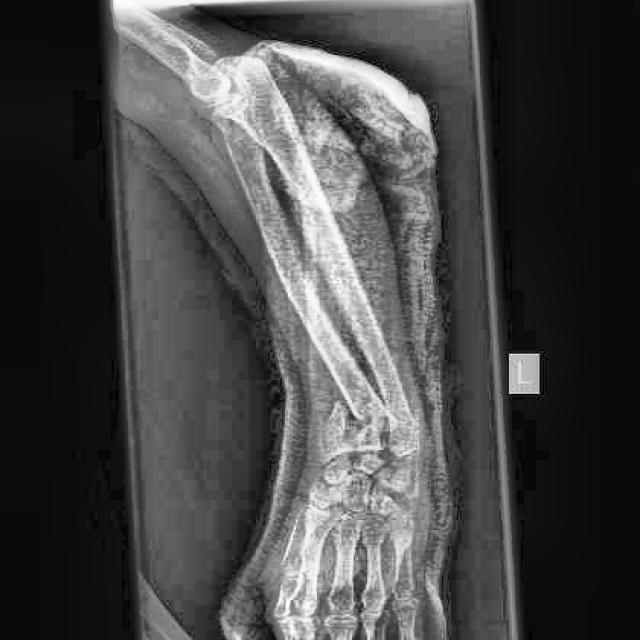forearm fracture: (310, 377, 389, 440)
